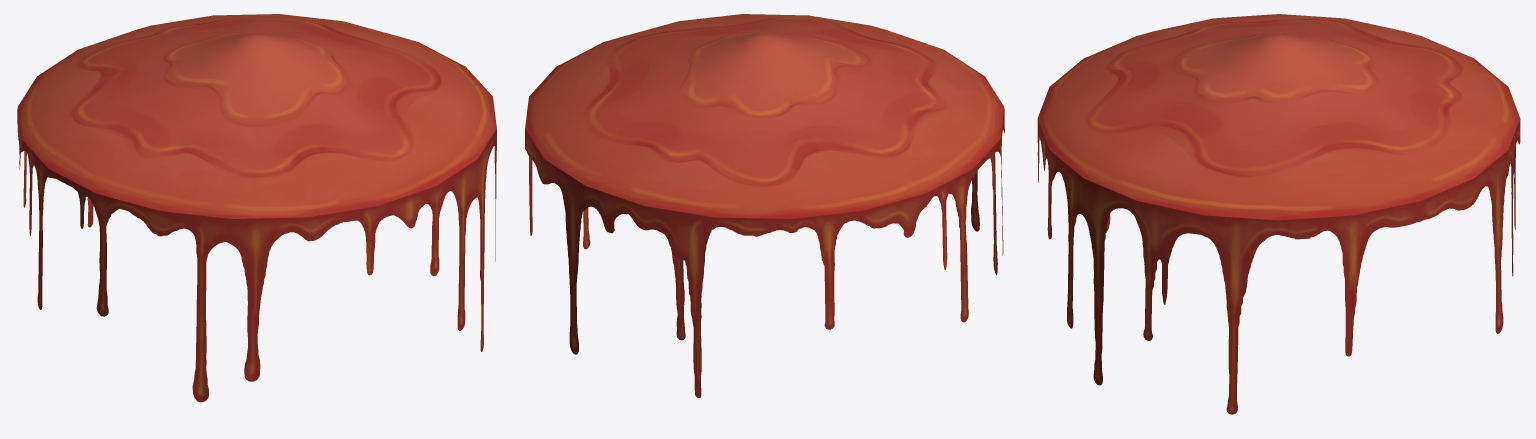
File: dropy mushrome bounce cap.fbx
3 views of the same model, side by side, from view 1: azimuth 30°, elevation 25°; view 2: azimuth 150°, elevation 25°; view 3: azimuth 270°, elevation 25° (orthographic).
Visible parts, largest first — view 1: polySurface188; view 2: polySurface188; view 3: polySurface188.
Boxes of the visible parts, x1,y1,x2,y2 form: polySurface188: (17,14,496,402); polySurface188: (525,14,1004,398); polySurface188: (1037,14,1520,414).
Bounding box in the file's own units: 842 × 545 × 840.
